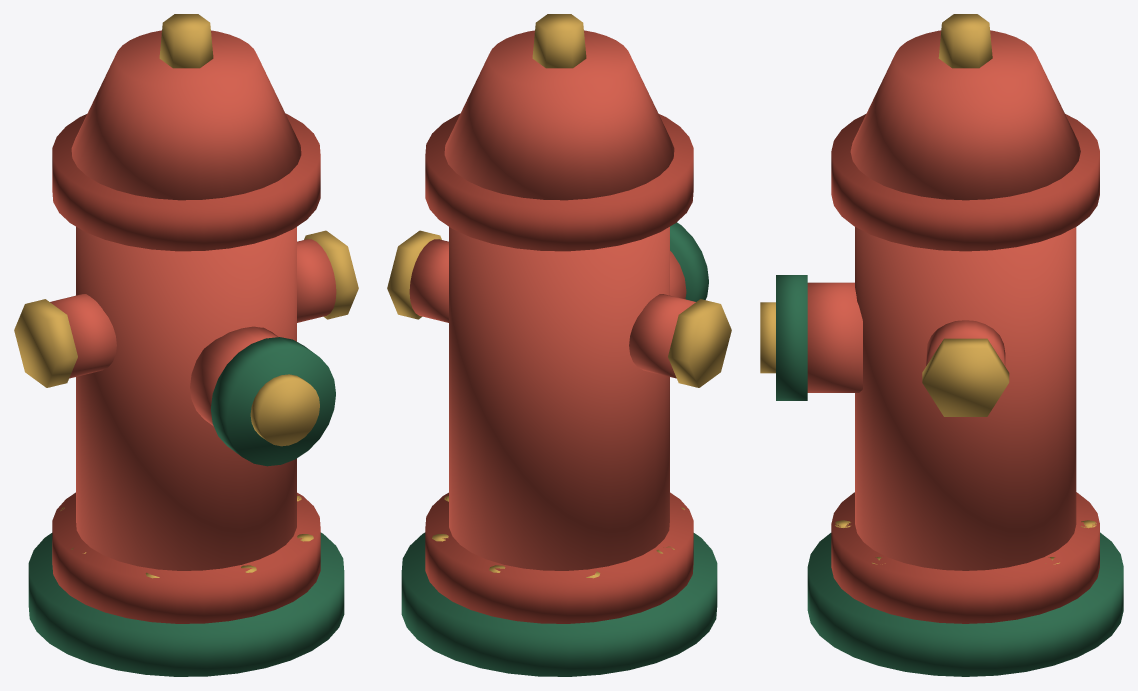
The model's file is street_hydrant.glb.
3 views of the same model, side by side, from view 1: azimuth 30°, elevation 25°; view 2: azimuth 150°, elevation 25°; view 3: azimuth 270°, elevation 25° (orthographic).
Visible parts, largest first — view 1: Barrel, Bonnet, Foot, BaseFlange, TopFlange, PumperCap, SideCap-1, PumperBoss, Side-1, Pumper, Side1, Nut (+1 smaller); view 2: Barrel, Bonnet, Foot, BaseFlange, TopFlange, SideCap-1, Side-1, Side1, Nut, SideCap1, PumperCap, Pumper; view 3: Barrel, Bonnet, Foot, BaseFlange, TopFlange, Pumper, SideCap1, PumperCap, Nut, Side1, PumperBoss.
Part boxes in pixels (left/top/right/bottom): Barrel: left=76, top=227, right=296, bottom=570; Bonnet: left=71, top=30, right=301, bottom=200; Foot: left=28, top=532, right=344, bottom=676; BaseFlange: left=52, top=492, right=320, bottom=623; TopFlange: left=52, top=113, right=320, bottom=251; PumperCap: left=210, top=337, right=335, bottom=466; SideCap-1: left=14, top=299, right=77, bottom=387; PumperBoss: left=250, top=374, right=319, bottom=446; Side-1: left=50, top=294, right=116, bottom=378; Pumper: left=190, top=326, right=278, bottom=426; Side1: left=297, top=239, right=336, bottom=322; Nut: left=159, top=14, right=213, bottom=68; Barrel: left=449, top=227, right=669, bottom=570; Bonnet: left=444, top=30, right=674, bottom=200; Foot: left=401, top=532, right=717, bottom=676; BaseFlange: left=425, top=492, right=693, bottom=623; TopFlange: left=425, top=113, right=693, bottom=251; SideCap-1: left=668, top=299, right=731, bottom=387; Side-1: left=629, top=294, right=695, bottom=378; Side1: left=409, top=239, right=448, bottom=322; Nut: left=532, top=14, right=586, bottom=68; SideCap1: left=387, top=230, right=441, bottom=319; PumperCap: left=670, top=222, right=708, bottom=301; Pumper: left=670, top=251, right=686, bottom=299; Barrel: left=855, top=227, right=1076, bottom=570; Bonnet: left=850, top=30, right=1080, bottom=200; Foot: left=807, top=532, right=1123, bottom=676; BaseFlange: left=831, top=492, right=1099, bottom=623; TopFlange: left=831, top=114, right=1099, bottom=251; Pumper: left=807, top=282, right=862, bottom=392; SideCap1: left=922, top=338, right=1009, bottom=416; PumperCap: left=776, top=275, right=807, bottom=400; Nut: left=938, top=14, right=992, bottom=68; Side1: left=926, top=320, right=1005, bottom=365; PumperBoss: left=760, top=302, right=775, bottom=373.
Bounding box in the file's own units: 0.44 × 0.82 × 0.46.
